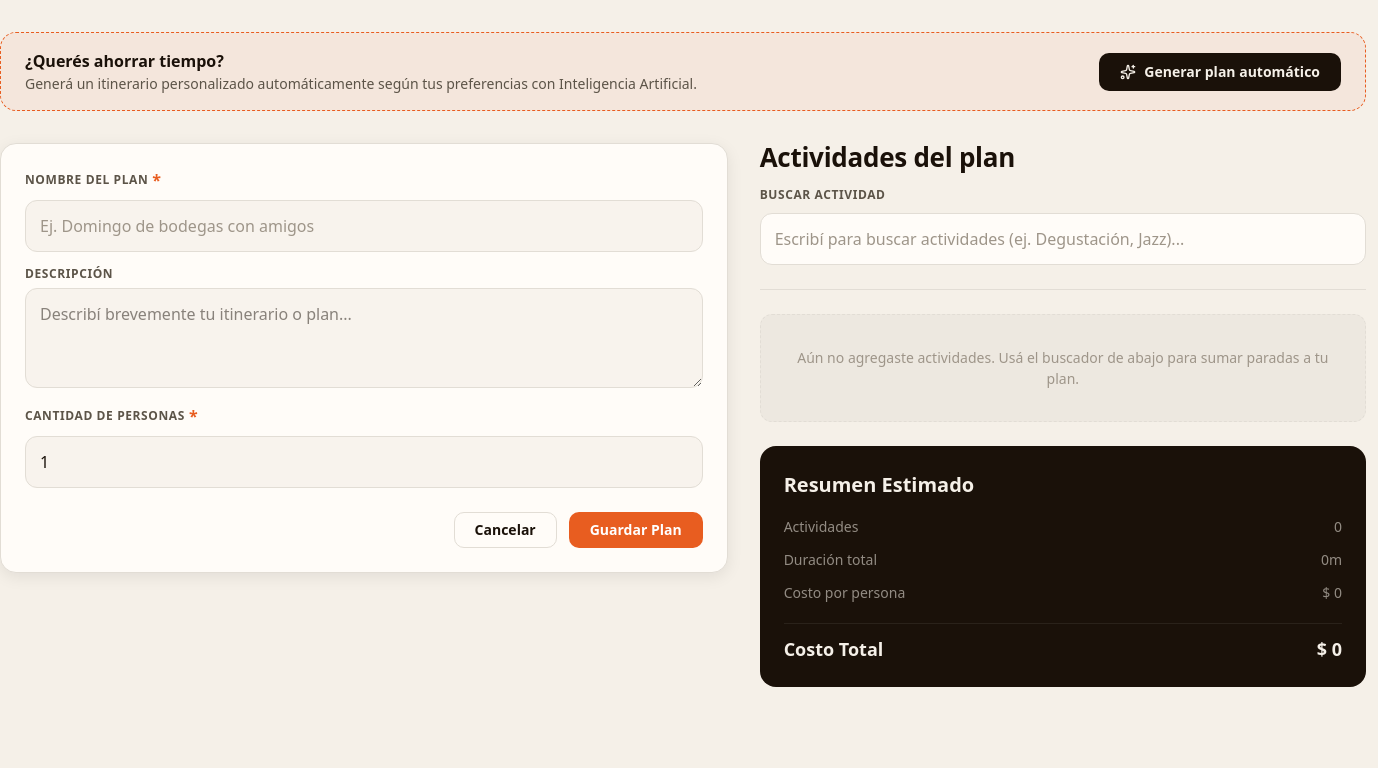
CreatePlanForm (CU24) › refuses to submit with fewer than one person
The image size is (1378, 768).
Type "Domingo" into the field labelled "Nombre del plan" at (364, 226), box [25,200,703,252]
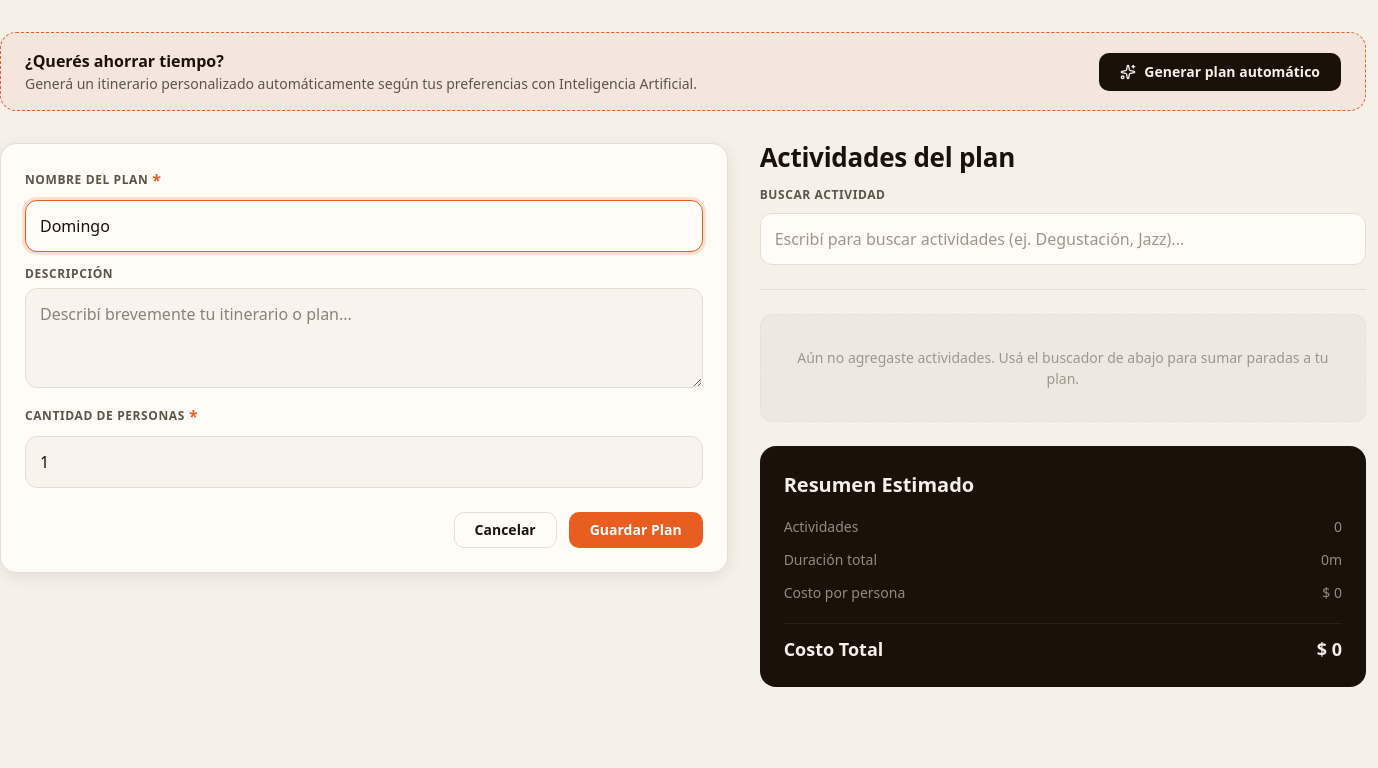
Replace the text in the number field labelled "Cantidad de personas" with "0" at (364, 462), box [25,436,703,488]
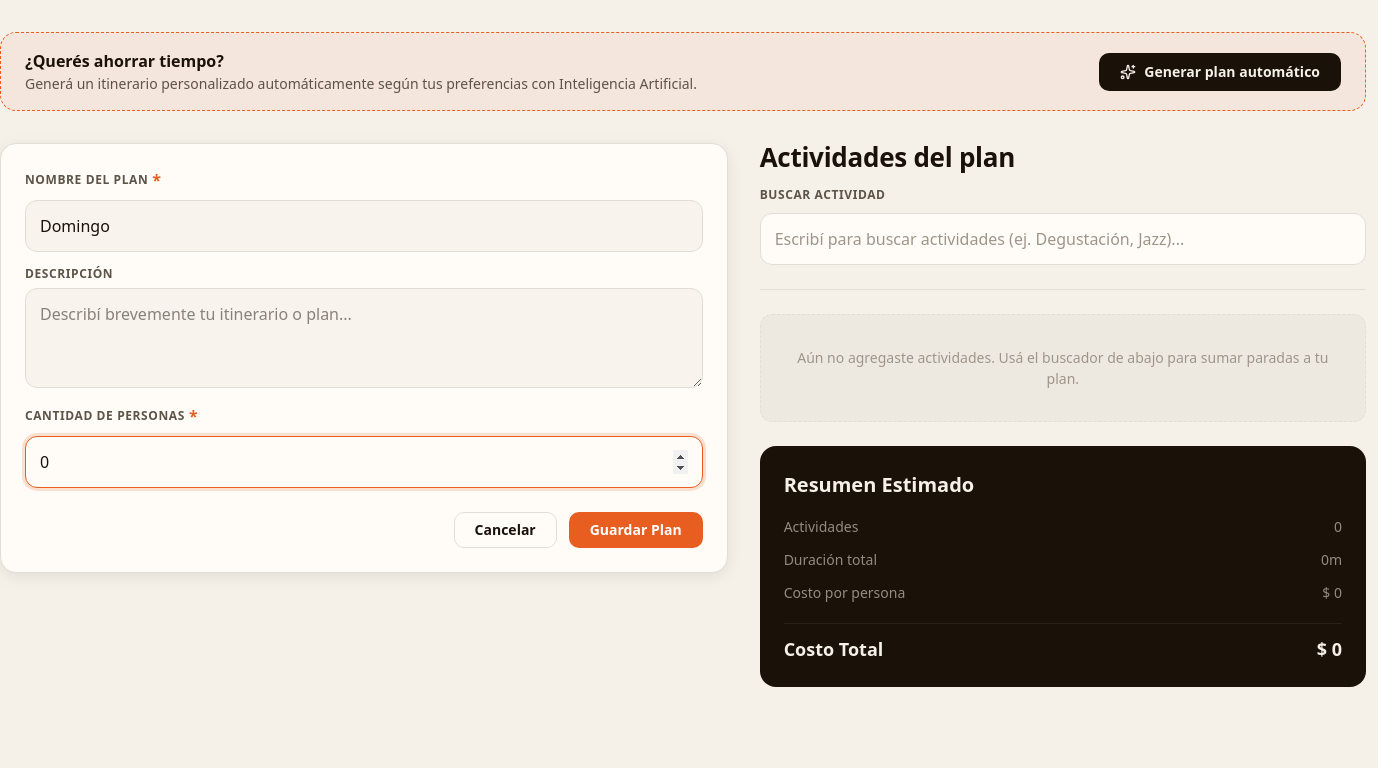
Click the button "Guardar Plan" at (636, 530), box [569,512,703,548]
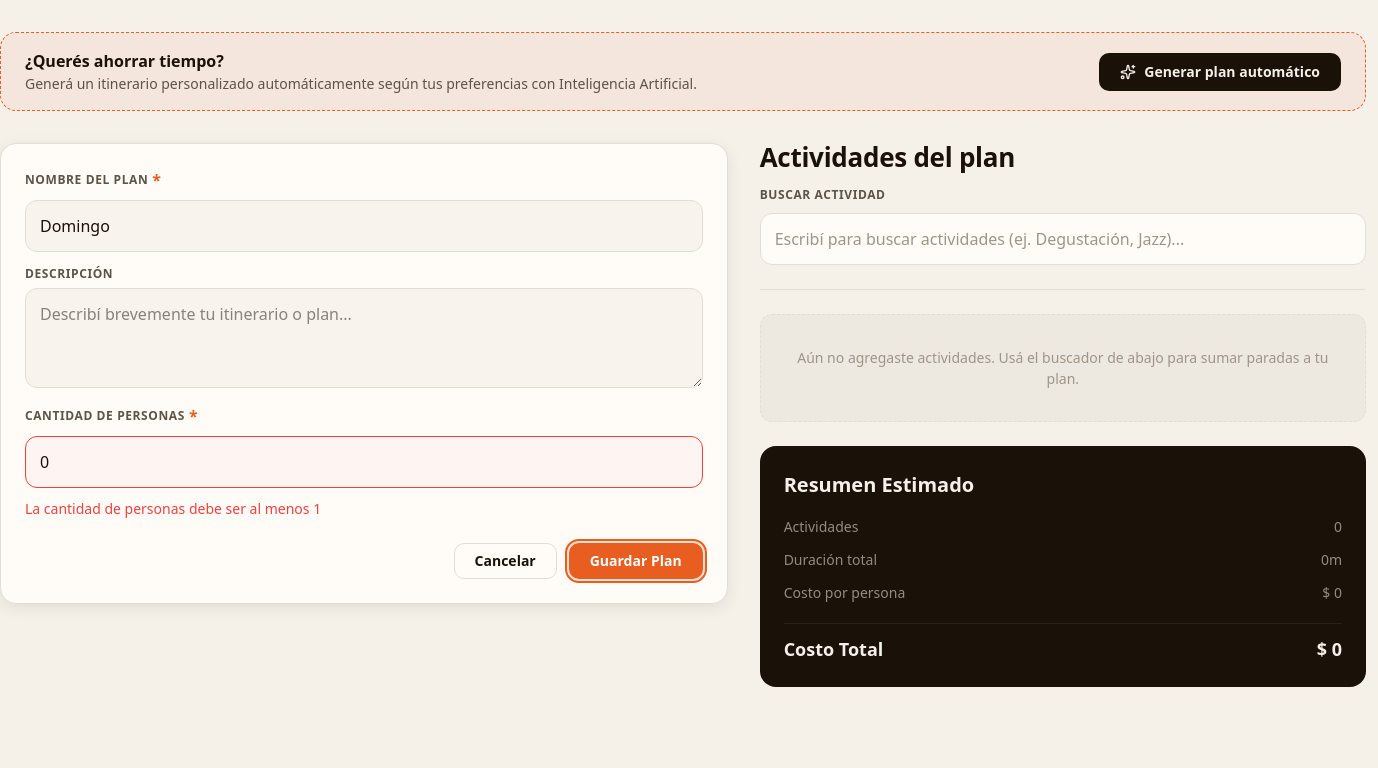
Result: the text "La cantidad de personas debe ser al menos 1" is shown at [25,499,321,518]
